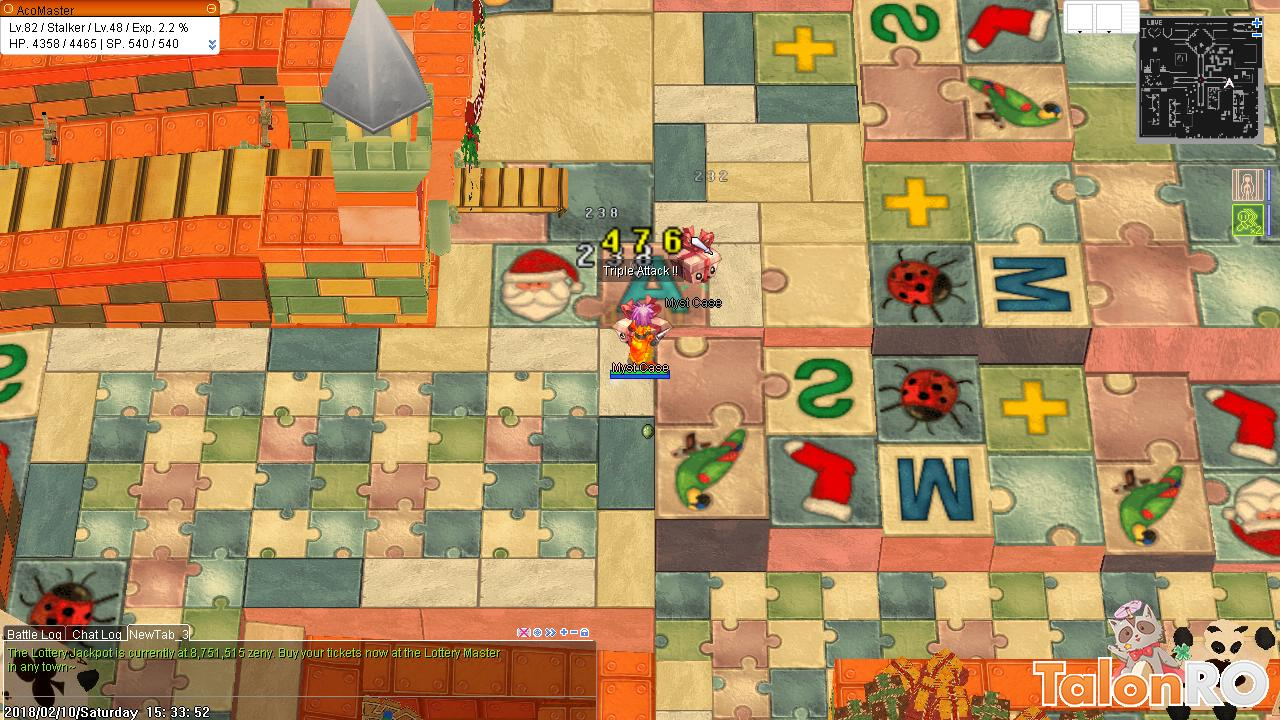loot: (638, 419, 658, 441)
myst_case: (667, 226, 720, 289), (615, 295, 669, 349)
